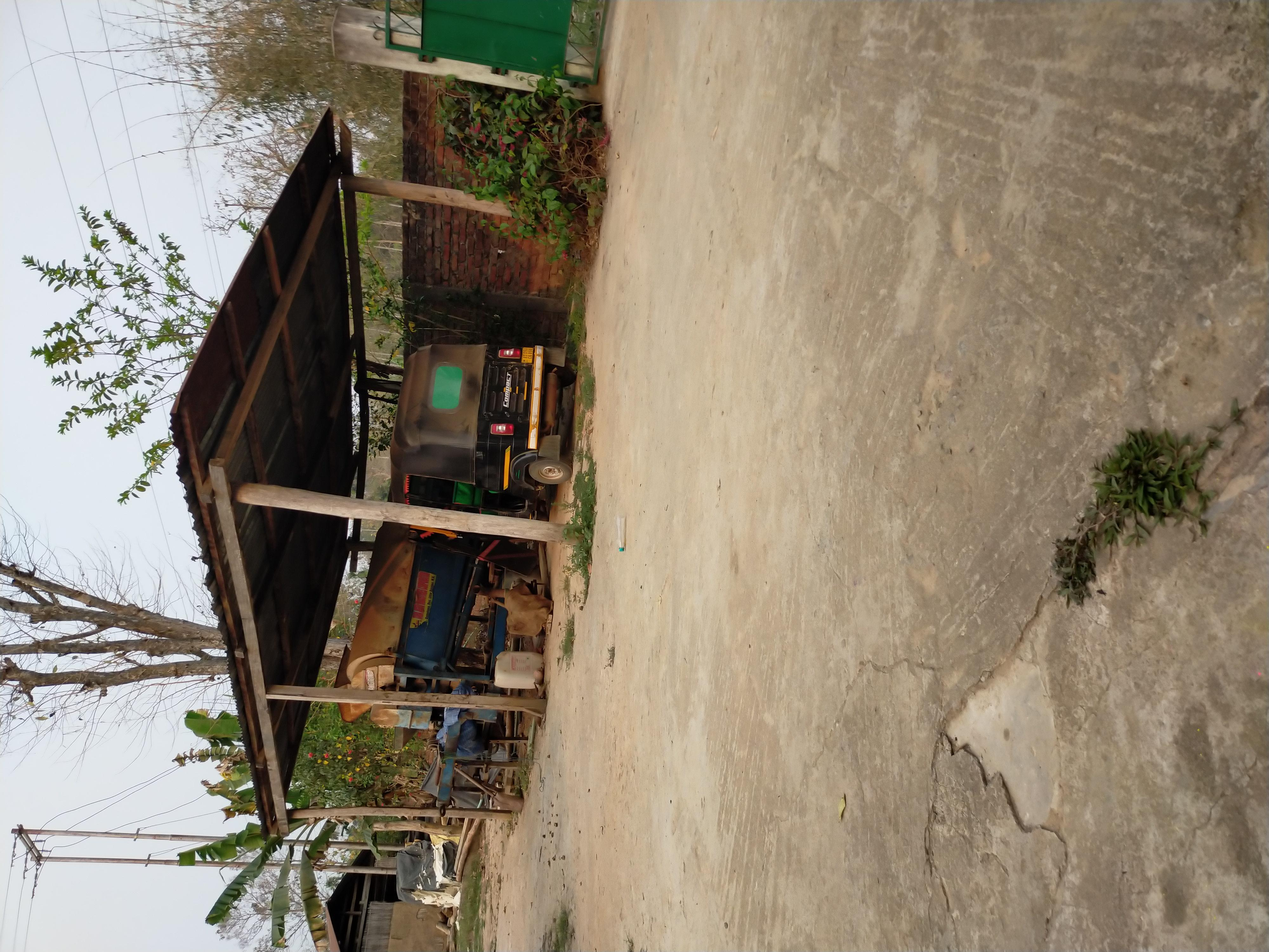Auto: (535, 289, 825, 437)
